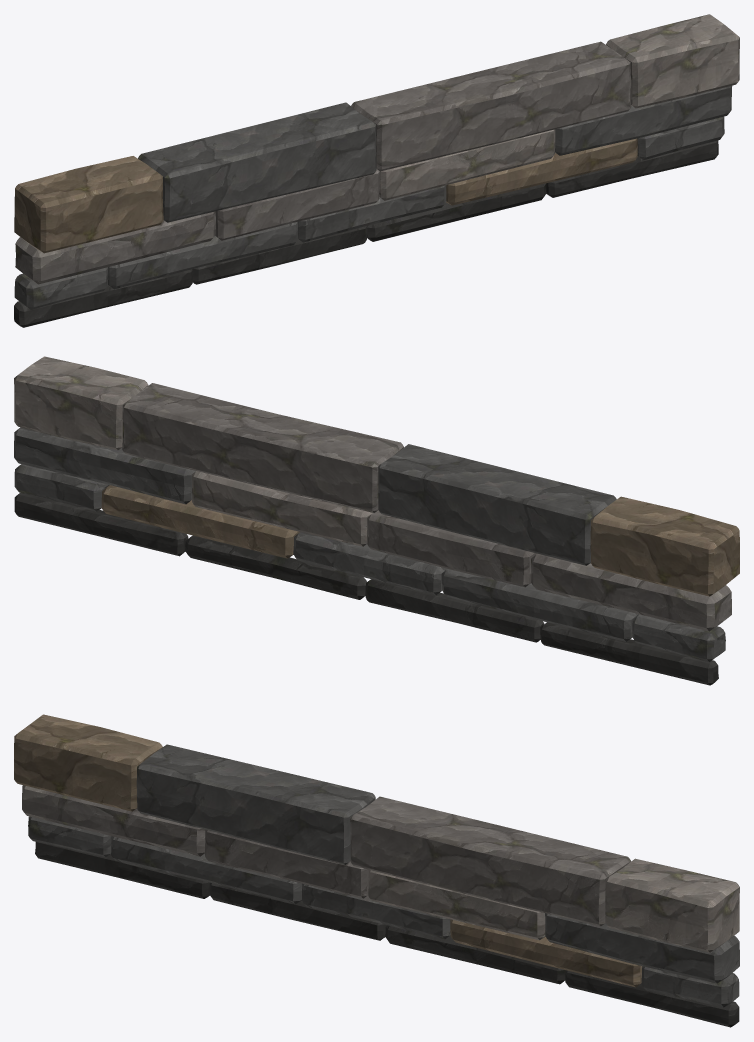
The model's file is cornice__cut_stone.glb.
3 renders of one model, top to bottom at view 1: azimuth 30°, elevation 25°; view 2: azimuth 150°, elevation 25°; view 3: azimuth 330°, elevation 25°, orthographic.
Parts seen in each view (by area): view 1: model; view 2: model; view 3: model.
Part boxes in pixels (box(x1,y1,x2,y2)): model: box(14, 14, 739, 327); model: box(14, 356, 739, 685); model: box(14, 714, 739, 1027).
Size of the model in its own units: 1.99 by 0.3868 by 0.1557.
Materials: 5 (5 with a texture image).
